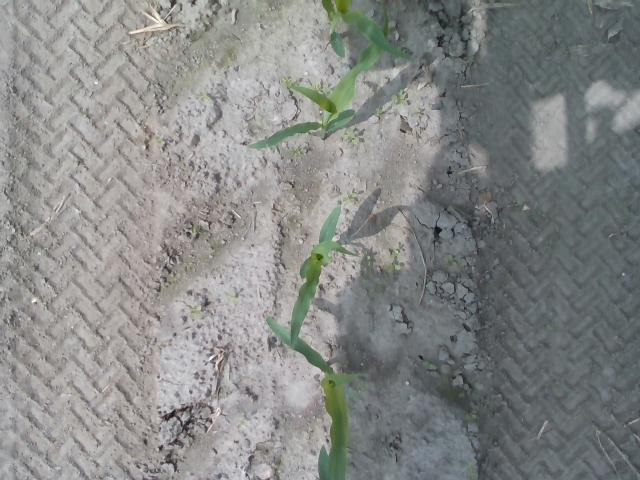Maize: (264, 315, 370, 480), (247, 44, 380, 148), (289, 201, 362, 350), (319, 0, 414, 62)
Weeds: (311, 80, 332, 95), (389, 248, 401, 271), (393, 88, 407, 104), (344, 128, 359, 142), (188, 304, 202, 318), (287, 146, 301, 157), (465, 410, 478, 421), (422, 360, 436, 370), (446, 253, 456, 266), (282, 77, 296, 86), (190, 228, 204, 236), (375, 105, 384, 115)
